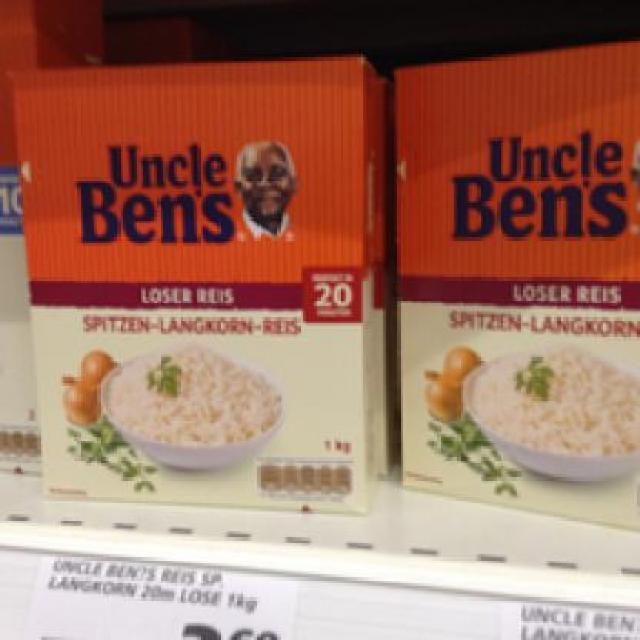Rice: (6, 54, 374, 512), (392, 34, 638, 532)
